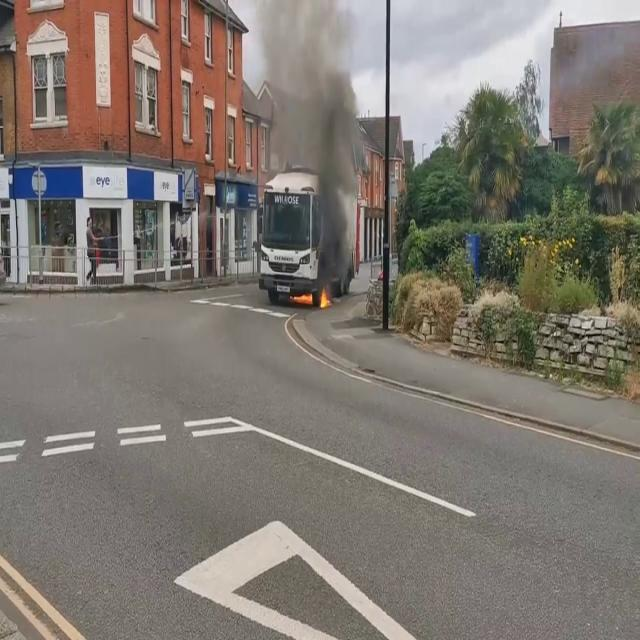Fire: (317, 282, 332, 312)
Smoke: (254, 0, 366, 273)
